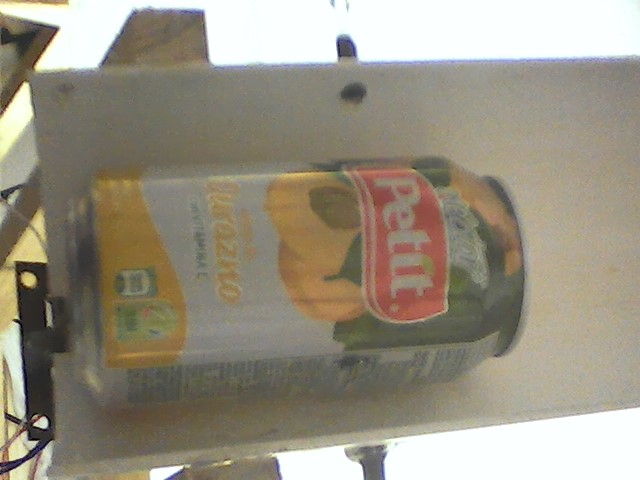lata: (62, 154, 536, 413)
